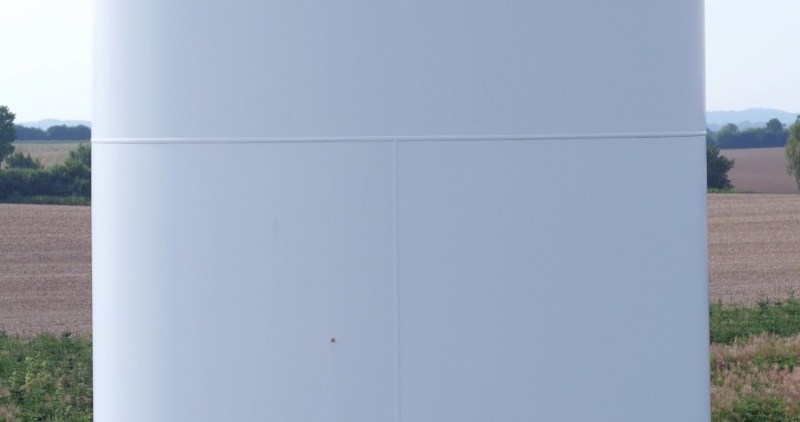weldseam: (86, 128, 709, 148), (387, 132, 406, 422)
